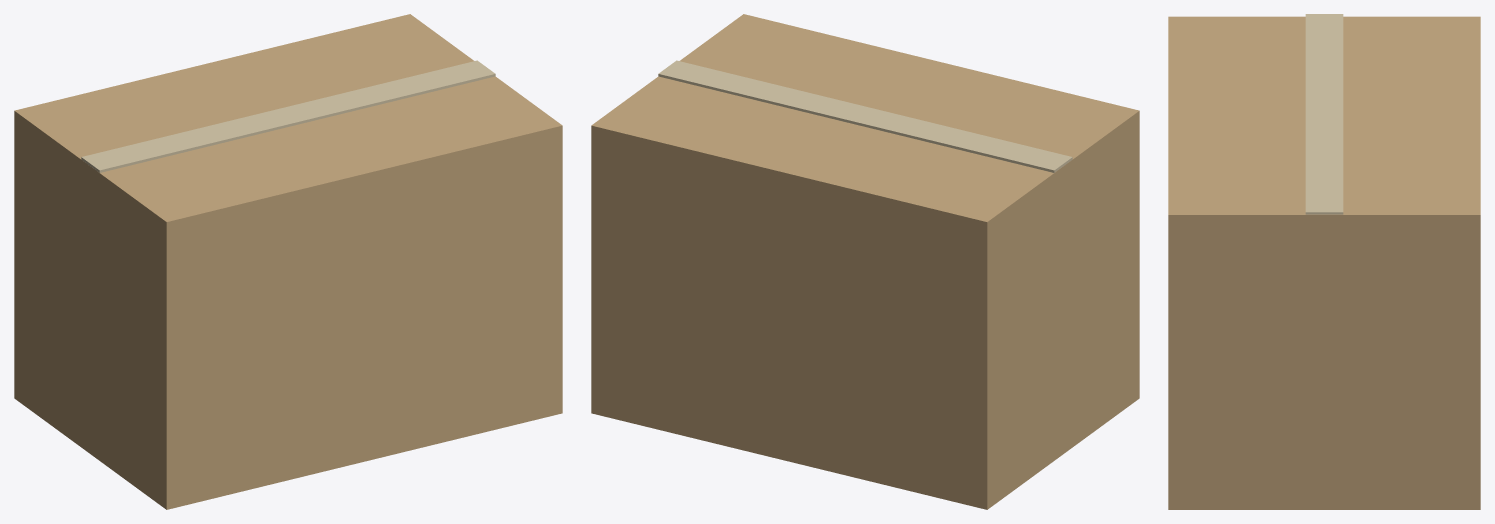
The picture shows the model from 3 angles, left to right: view 1: azimuth 30°, elevation 25°; view 2: azimuth 150°, elevation 25°; view 3: azimuth 270°, elevation 25°; orthographic projection. The views are drawn at different scales.
Visible parts, largest first — view 1: ForgeCore item; view 2: ForgeCore item; view 3: ForgeCore item.
Boxes of the visible parts, x1,y1,x2,y2 form: ForgeCore item: (14, 14, 562, 509); ForgeCore item: (591, 14, 1139, 509); ForgeCore item: (1168, 14, 1480, 509).
Size of the model in its own units: 0.72 by 0.5046 by 0.48.
